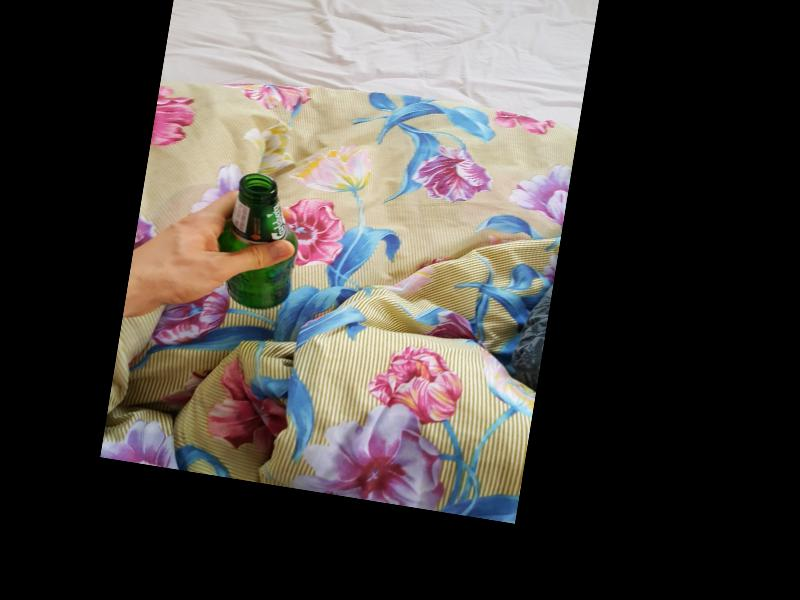Beer: (207, 171, 306, 313)
